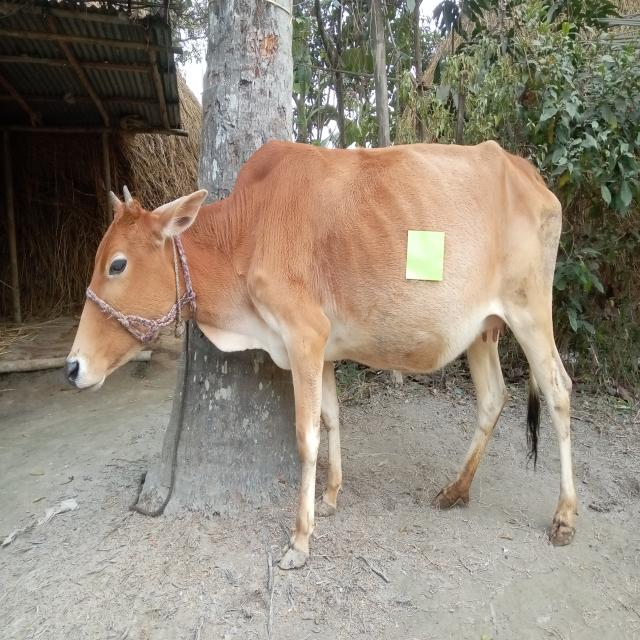badan_sapi: (268, 139, 562, 374)
sapi: (54, 120, 584, 574)
